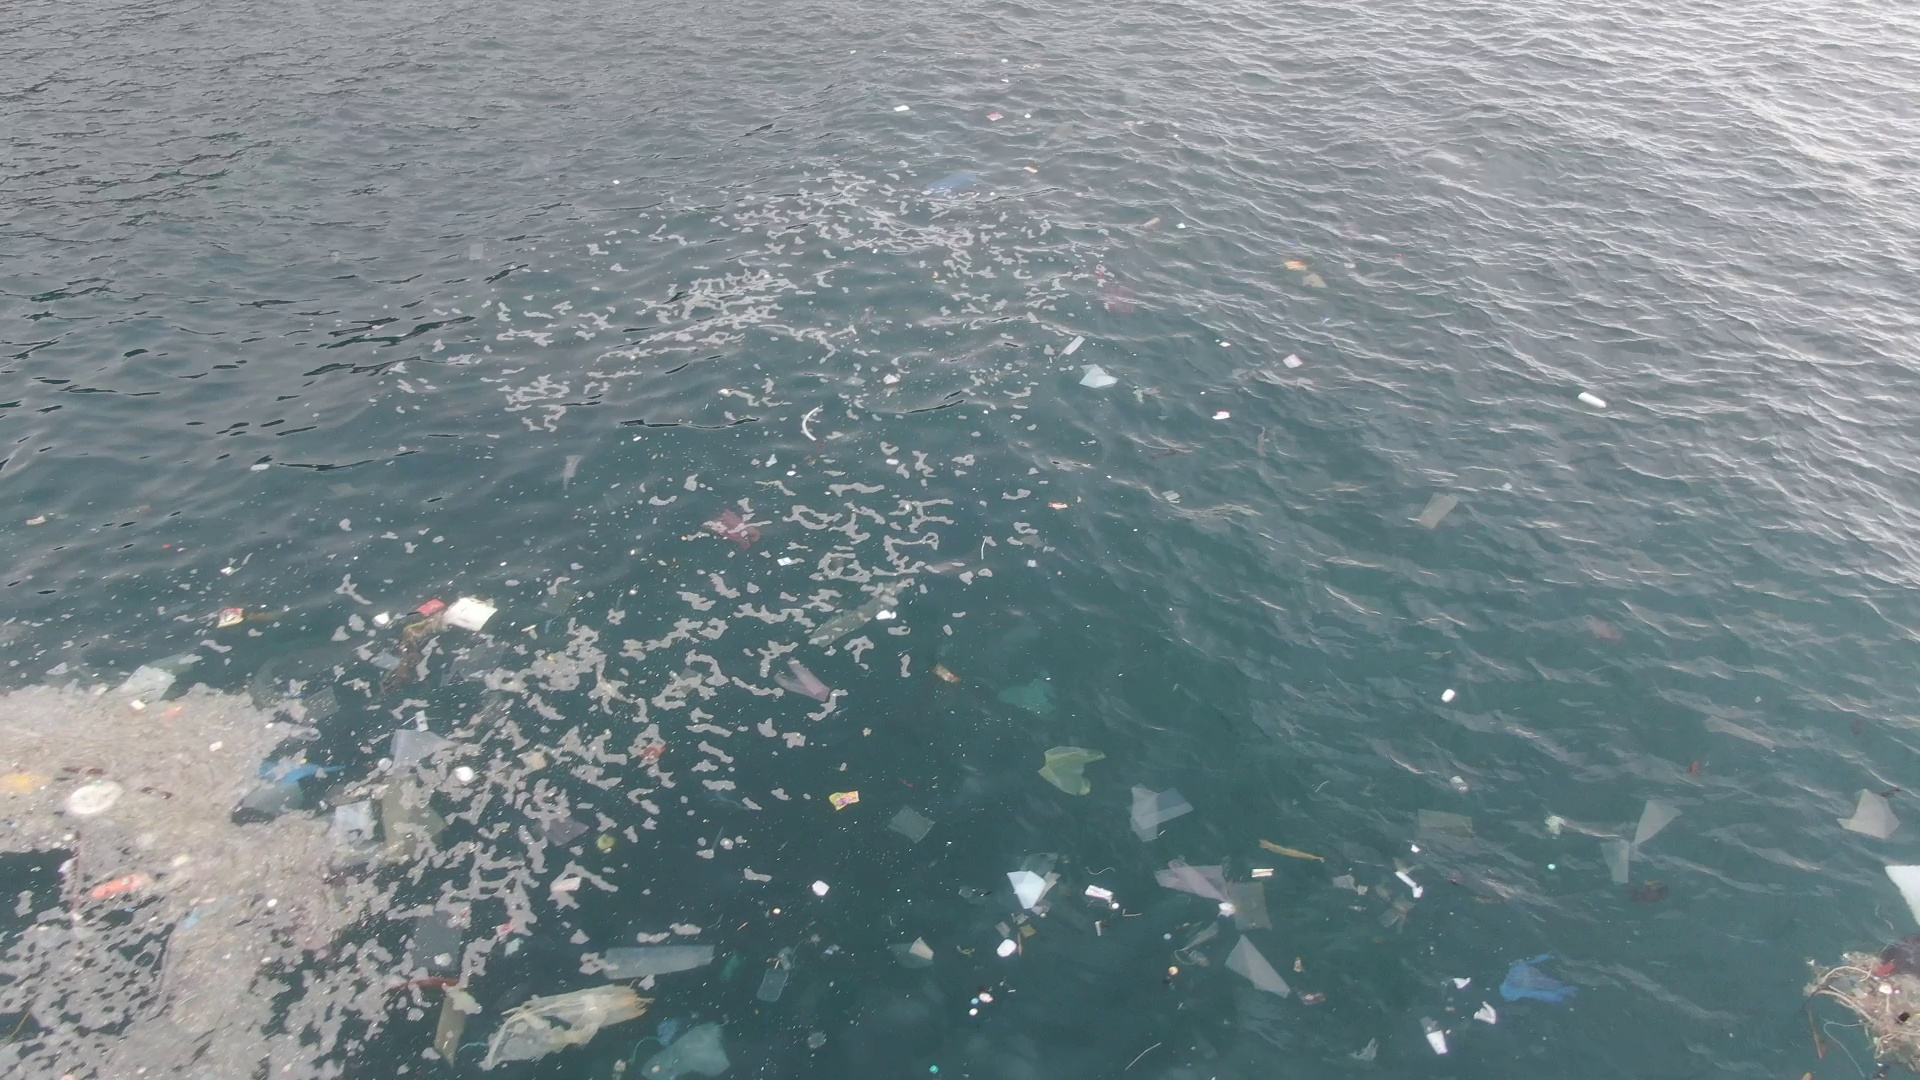garbage: (1807, 858, 1920, 1075), (1160, 856, 1298, 1005), (1374, 807, 1478, 934), (489, 989, 644, 1067), (396, 592, 496, 686), (984, 855, 1060, 959), (236, 765, 349, 823), (1604, 802, 1677, 887), (640, 1022, 732, 1080), (816, 585, 901, 649), (1495, 949, 1582, 1010), (1127, 778, 1192, 847), (73, 861, 160, 911), (1033, 742, 1105, 800), (605, 942, 713, 977), (388, 729, 456, 782), (1838, 787, 1900, 845), (407, 911, 462, 971), (997, 673, 1062, 721), (774, 655, 829, 704), (708, 506, 760, 554), (1095, 268, 1139, 316), (1416, 487, 1462, 529), (758, 949, 793, 1004), (891, 935, 936, 975), (887, 808, 934, 847), (1286, 255, 1329, 293), (926, 169, 980, 196), (1573, 382, 1609, 418), (203, 603, 245, 632), (1080, 363, 1120, 392), (931, 659, 963, 687), (831, 789, 860, 808), (1063, 334, 1084, 355), (1211, 407, 1232, 422), (1284, 353, 1302, 369), (1047, 500, 1068, 512), (984, 111, 1005, 121), (894, 104, 911, 113)
